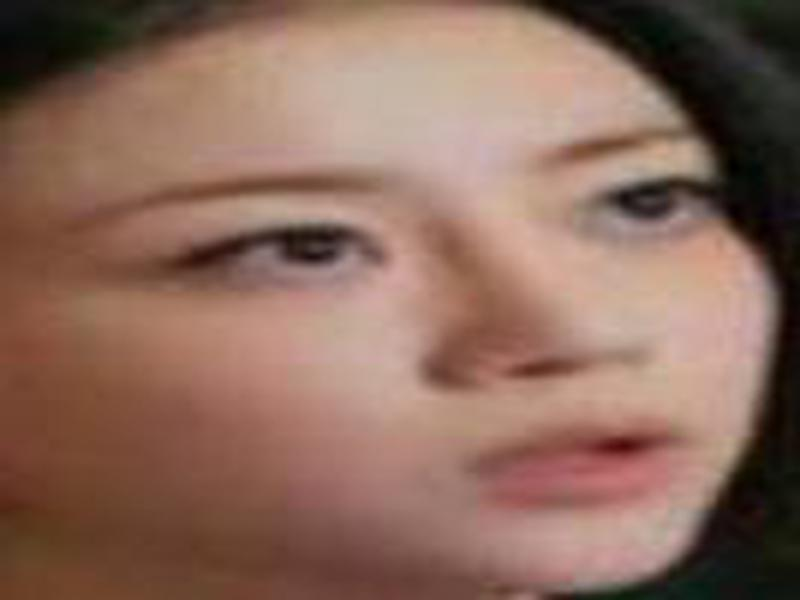without_mask: (4, 14, 780, 589)
